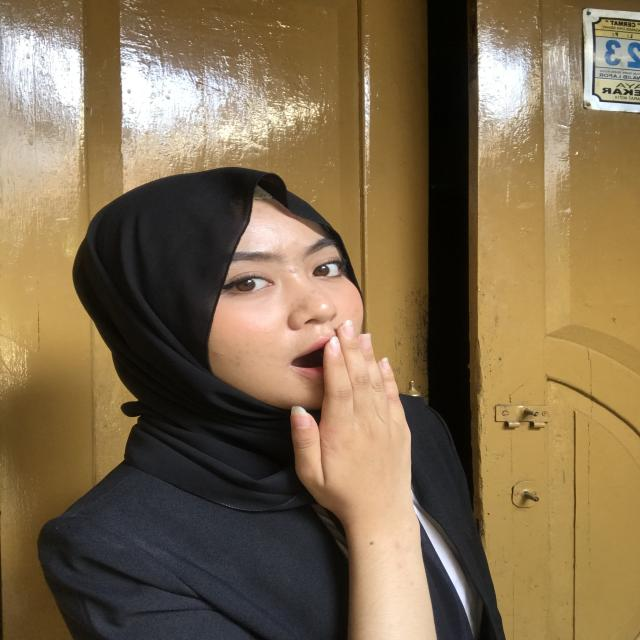ngantuk: (259, 319, 428, 533)
